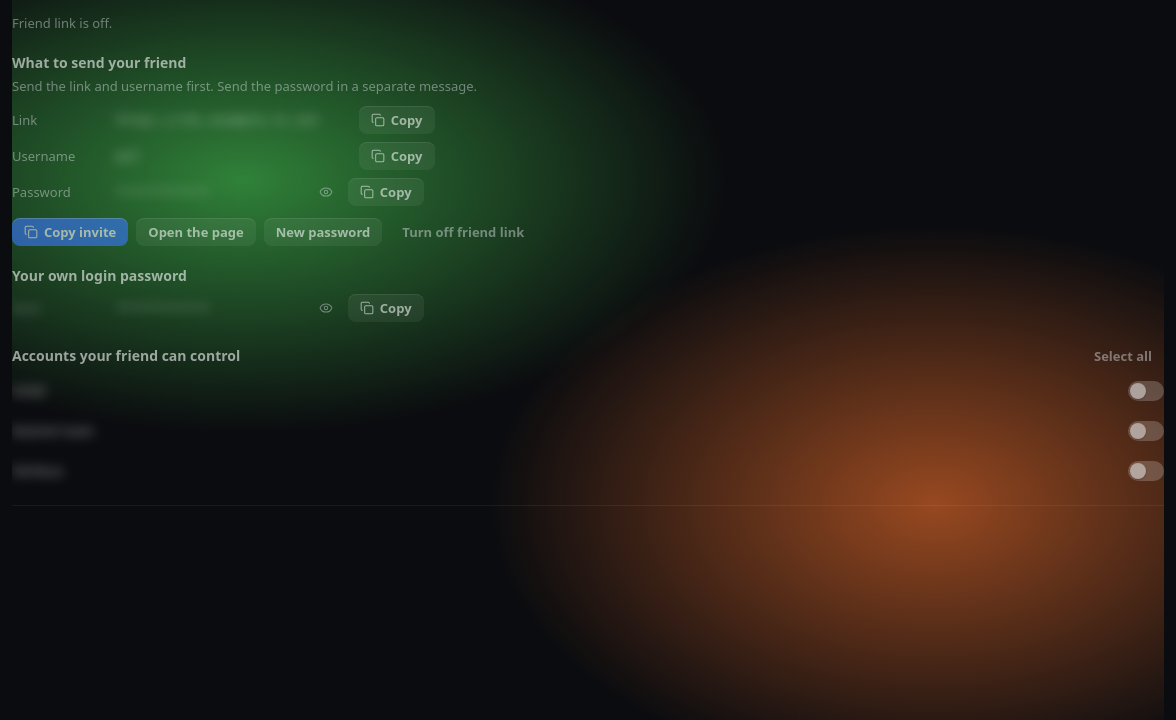
it: owner password row shows only when an owner name is saved
The width and height of the screenshot is (1176, 720).
Expected: the button with aria-label "Copy password" is shown, x1=348 y1=178 x2=424 y2=206
Expected: the button "Copy your own password" is not shown
What coordinates should you click on to do the following:
click the button with aria-label "Copy your own password"
I would click on:
 (386, 308)
Its box is x1=348 y1=294 x2=424 y2=322.
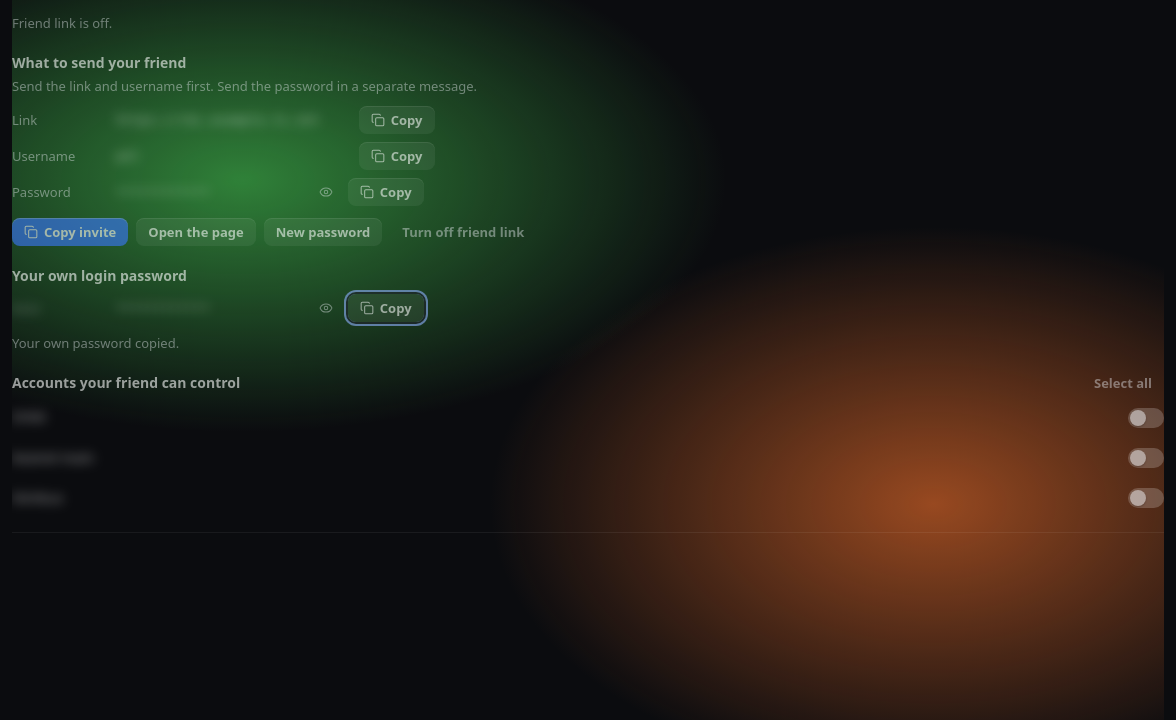
Expected: the text "Your own password copied." is shown, x1=12 y1=334 x2=179 y2=352
